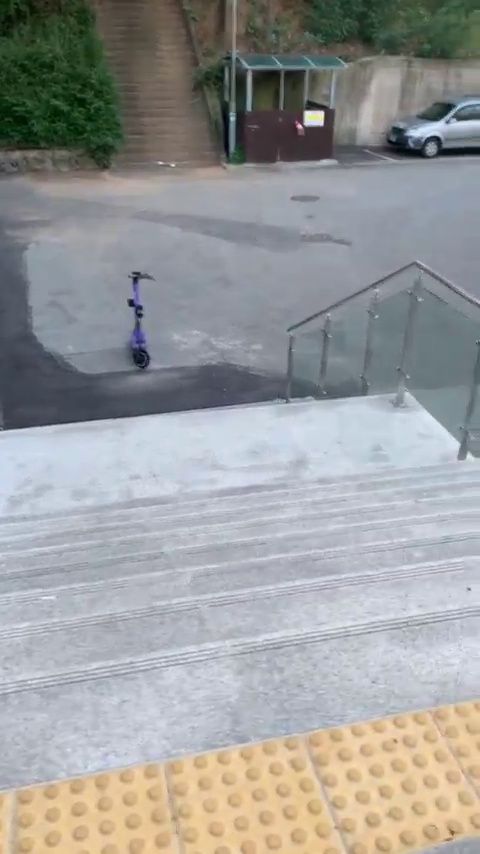beam: (115, 261, 155, 377)
